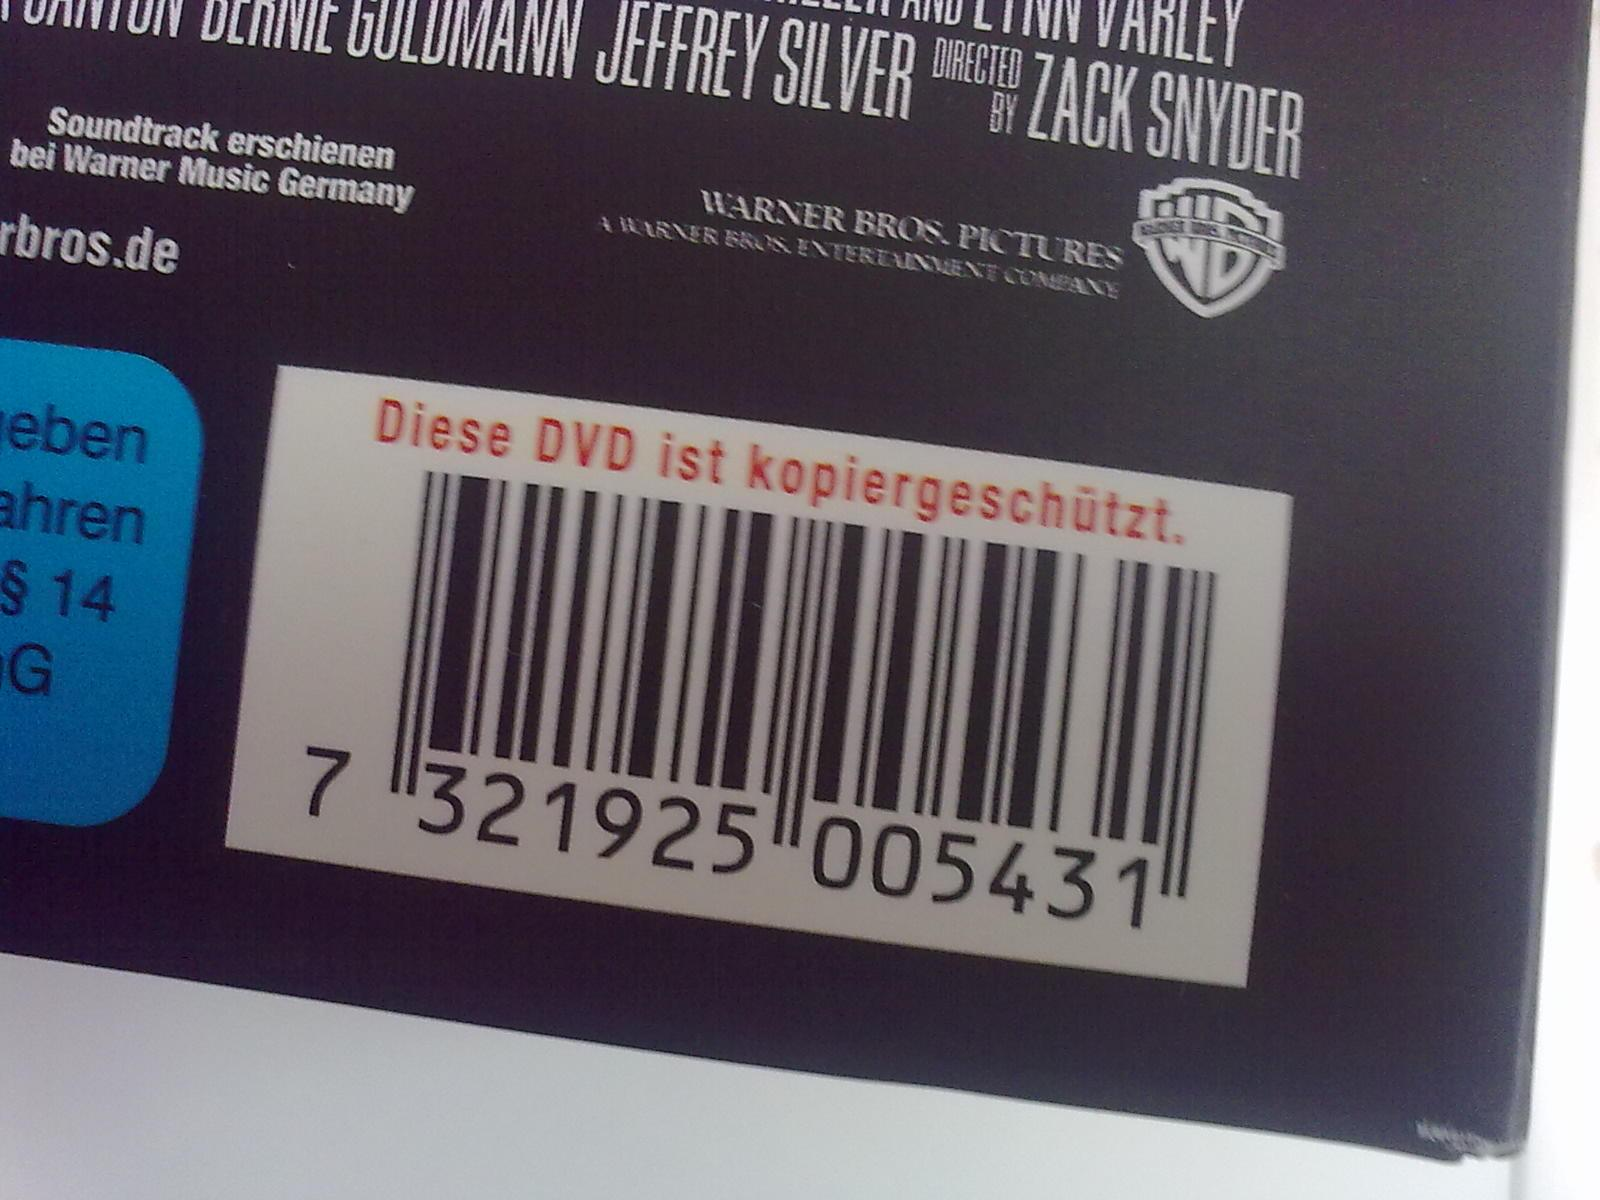barcode: (226, 366, 1293, 989)
